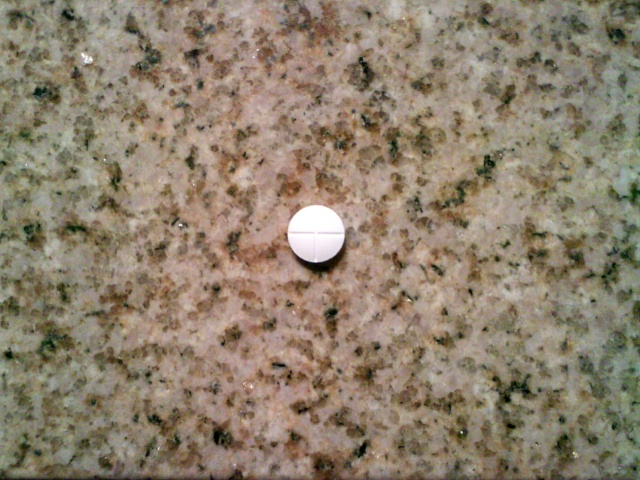|: (285, 228, 347, 242), (310, 203, 321, 266)
